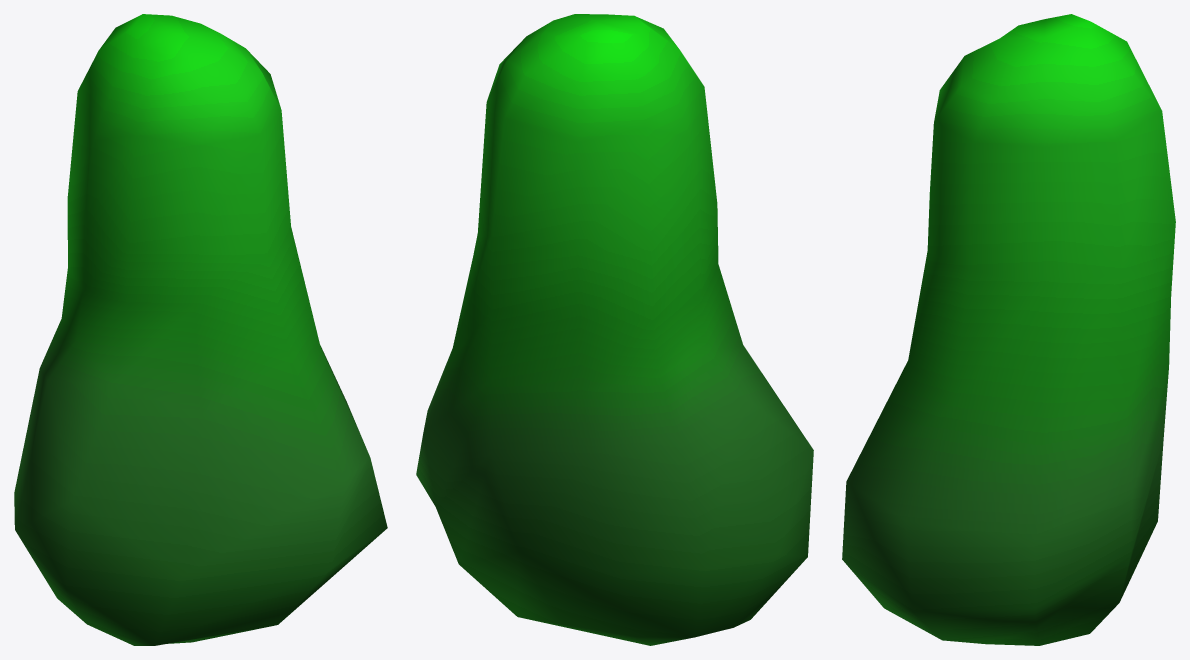
File: SM_Bush_01.fbx
The picture shows the model from 3 angles, left to right: view 1: azimuth 30°, elevation 25°; view 2: azimuth 150°, elevation 25°; view 3: azimuth 270°, elevation 25°; orthographic projection. The views are drawn at different scales.
Parts seen in each view (by area): view 1: SM_Bush_01; view 2: SM_Bush_01; view 3: SM_Bush_01.
Boxes of the visible parts, box(x1,y1,x2,y2) form: SM_Bush_01: box(14, 14, 387, 645); SM_Bush_01: box(416, 14, 813, 645); SM_Bush_01: box(842, 14, 1175, 645).
Size of the model in its own units: 259 by 421 by 212.
1 material, 1 textured.
